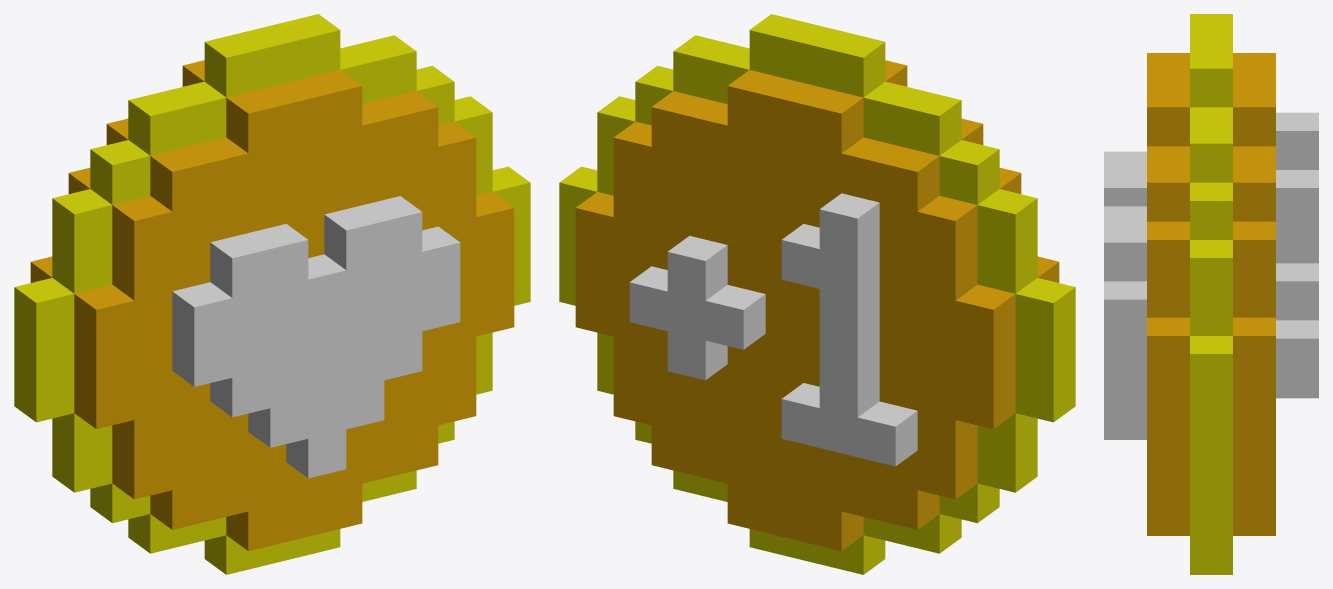
Rendered from powerup_extralife.gltf.
The picture shows the model from 3 angles, left to right: view 1: azimuth 30°, elevation 25°; view 2: azimuth 150°, elevation 25°; view 3: azimuth 270°, elevation 25°; orthographic projection. The views are drawn at different scales.
Size of the model in its own units: 13 by 13 by 5.
